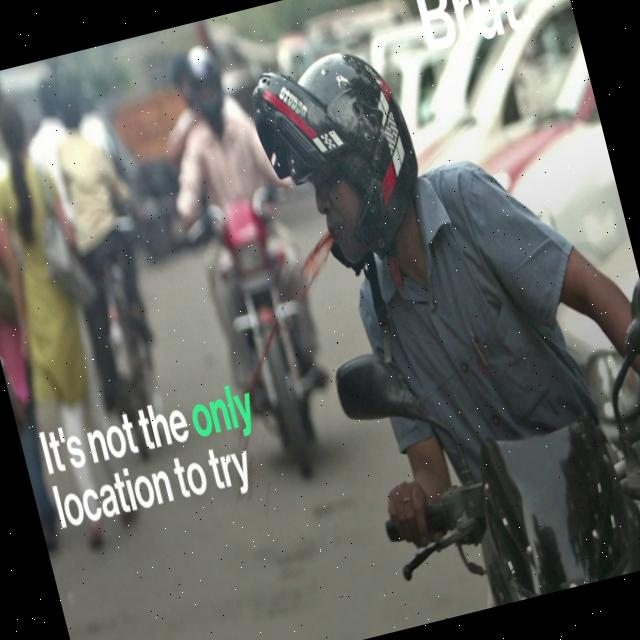spit: (242, 170, 369, 412)
